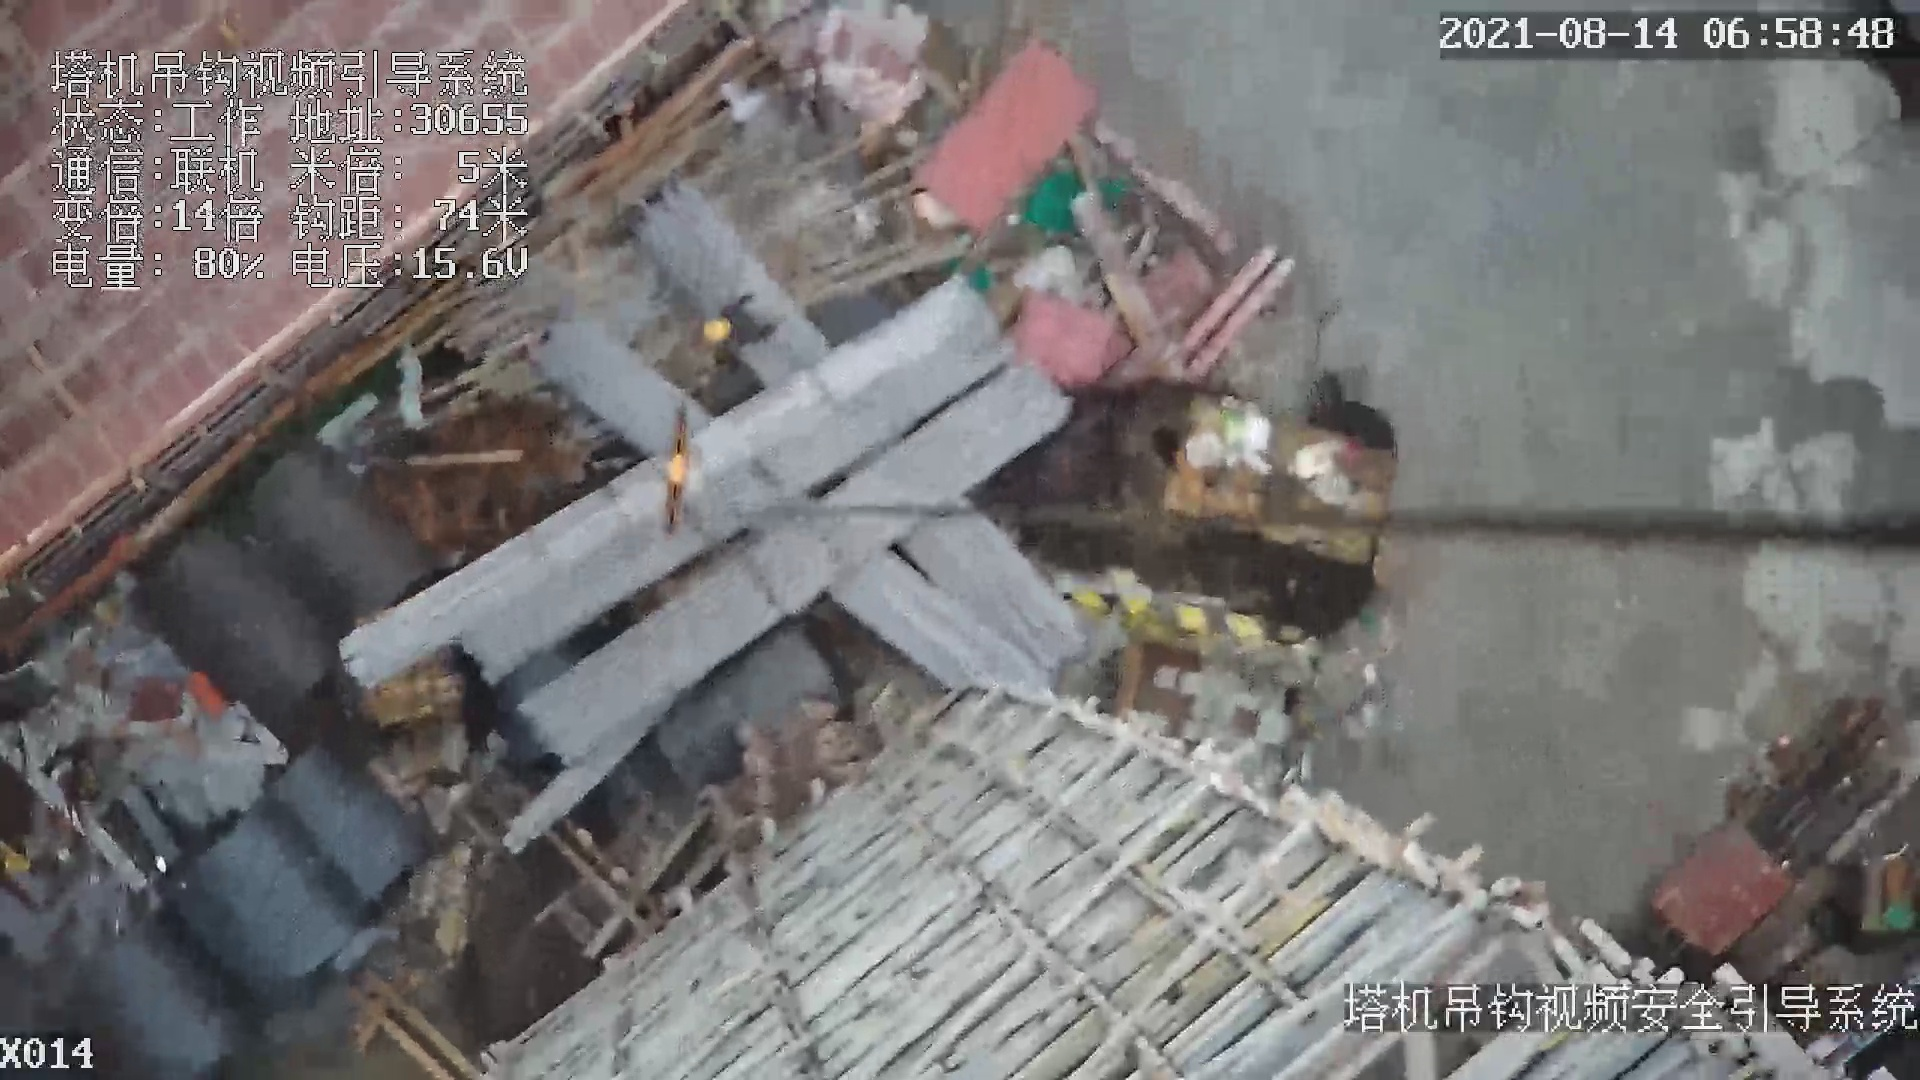helmet: (702, 318, 731, 341)
hook: (659, 403, 695, 536)
person: (697, 295, 791, 362)
rebar: (332, 272, 1016, 693), (523, 362, 1075, 765)
